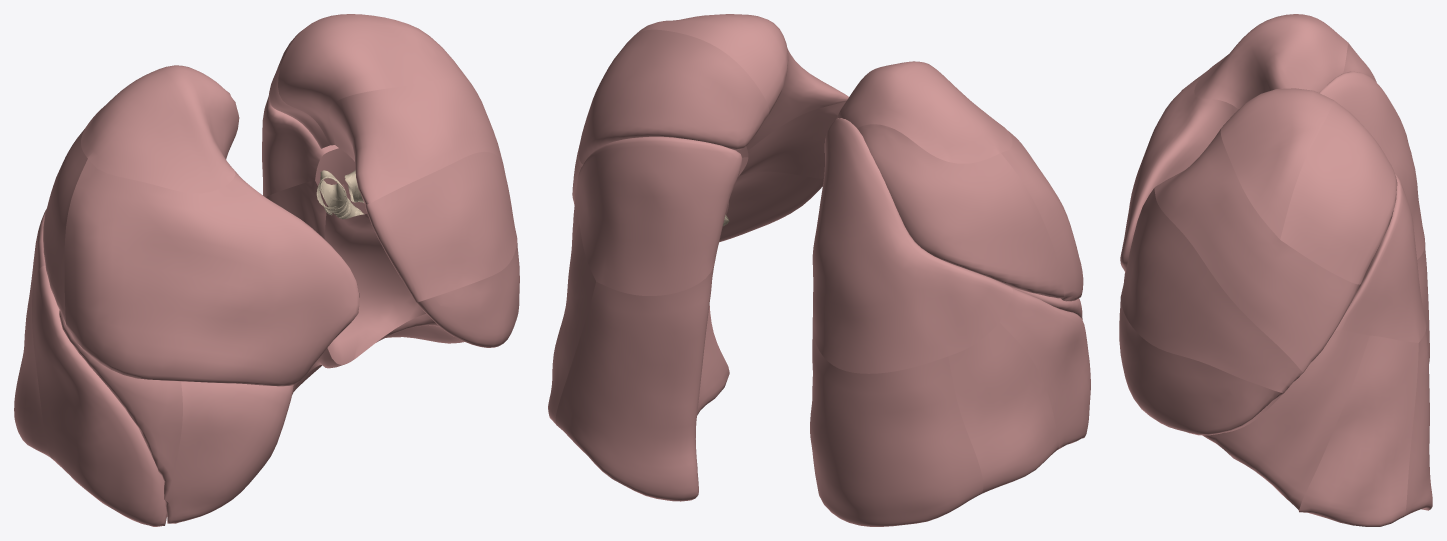
Rendered from lungs.glb.
3 views of the same model, side by side, from view 1: azimuth 30°, elevation 25°; view 2: azimuth 150°, elevation 25°; view 3: azimuth 270°, elevation 25° (orthographic). The views are drawn at different scales.
Visible parts, largest first — view 1: VH_F_right_anterior_bronchopulmonary_segm, VH_F_right_anterior_basal_bronchopulmonary_segment, VH_F_lingula_superior_bronchopulmonary_segment, VH_F_right_apical_bronchopulmonary_segment, VH_F_left_anterior_bronchopulmonary_segment, VH_F_left_apical_bronchopulmonary_segment, VH_F_right_medial_bronchopulmonary_segment, VH_F_left_medial_basal_bronchopulmonary_segment, VH_F_lingula_inferior_bronchopulmonary_segment, VH_F_right_lateral_bronchopulmonary_segmennt, VH_F_left_superior_bronchopulmonary_segment, VH_F_right_posterior_bronchopulmonary_segment (+6 smaller); view 2: VH_F_right_superior_bronchopulmonary_segment, VH_F_left_posterior_basal_bronchopulmonary_segment, VH_F_right_posterior_basal_bronchopulmonary_segment, VH_F_left_superior_bronchopulmonary_segment, VH_F_right_posterior_bronchopulmonary_segment, VH_F_left_posterior_bronchopulmonary_segment, VH_F_right_lateral_basal_bronchopulmonary_segment, VH_F_right_apical_bronchopulmonary_segment, VH_F_right_anterior_basal_bronchopulmonary_segment, VH_F_left_apical_bronchopulmonary_segment, VH_F_lingula_inferior_bronchopulmonary_segment, VH_F_lingula_superior_bronchopulmonary_segment (+3 smaller); view 3: VH_F_left_anterior_bronchopulmonary_segment, VH_F_lingula_superior_bronchopulmonary_segment, VH_F_left_lateral_basal_bronchopulmonary_segment, VH_F_left_posterior_bronchopulmonary_segment, VH_F_left_anterior_basal_bronchopulmonary_segment, VH_F_lingula_inferior_bronchopulmonary_segment, VH_F_left_apical_bronchopulmonary_segment, VH_F_right_apical_bronchopulmonary_segment, VH_F_left_superior_bronchopulmonary_segment, VH_F_right_anterior_bronchopulmonary_segm, VH_F_right_superior_bronchopulmonary_segment, VH_F_left_posterior_basal_bronchopulmonary_segment (+2 smaller).
Boxes of the visible parts, left/top/right/bottom form: VH_F_right_anterior_bronchopulmonary_segm: left=64, top=159, right=359, bottom=386; VH_F_right_anterior_basal_bronchopulmonary_segment: left=32, top=265, right=166, bottom=526; VH_F_lingula_superior_bronchopulmonary_segment: left=365, top=151, right=517, bottom=302; VH_F_right_apical_bronchopulmonary_segment: left=81, top=65, right=239, bottom=193; VH_F_left_anterior_bronchopulmonary_segment: left=329, top=78, right=502, bottom=204; VH_F_left_apical_bronchopulmonary_segment: left=278, top=14, right=470, bottom=145; VH_F_right_medial_bronchopulmonary_segment: left=165, top=381, right=293, bottom=523; VH_F_left_medial_basal_bronchopulmonary_segment: left=324, top=205, right=425, bottom=364; VH_F_lingula_inferior_bronchopulmonary_segment: left=416, top=242, right=519, bottom=347; VH_F_right_lateral_bronchopulmonary_segmennt: left=59, top=310, right=182, bottom=499; VH_F_left_superior_bronchopulmonary_segment: left=262, top=95, right=355, bottom=197; VH_F_right_posterior_bronchopulmonary_segment: left=43, top=129, right=87, bottom=325; VH_F_right_superior_bronchopulmonary_segment: left=812, top=118, right=1012, bottom=373; VH_F_left_posterior_basal_bronchopulmonary_segment: left=555, top=265, right=729, bottom=501; VH_F_right_posterior_basal_bronchopulmonary_segment: left=810, top=325, right=983, bottom=526; VH_F_left_superior_bronchopulmonary_segment: left=576, top=136, right=742, bottom=295; VH_F_right_posterior_bronchopulmonary_segment: left=857, top=124, right=1064, bottom=298; VH_F_left_posterior_bronchopulmonary_segment: left=579, top=29, right=769, bottom=164; VH_F_right_lateral_basal_bronchopulmonary_segment: left=948, top=322, right=1058, bottom=493; VH_F_right_apical_bronchopulmonary_segment: left=836, top=61, right=1012, bottom=163; VH_F_right_anterior_basal_bronchopulmonary_segment: left=999, top=287, right=1090, bottom=449; VH_F_left_apical_bronchopulmonary_segment: left=634, top=14, right=788, bottom=113; VH_F_lingula_inferior_bronchopulmonary_segment: left=719, top=157, right=823, bottom=242; VH_F_lingula_superior_bronchopulmonary_segment: left=736, top=101, right=845, bottom=178; VH_F_left_anterior_bronchopulmonary_segment: left=1154, top=129, right=1360, bottom=372; VH_F_lingula_superior_bronchopulmonary_segment: left=1120, top=188, right=1303, bottom=393; VH_F_left_lateral_basal_bronchopulmonary_segment: left=1299, top=335, right=1418, bottom=526; VH_F_left_posterior_bronchopulmonary_segment: left=1280, top=100, right=1397, bottom=284; VH_F_left_anterior_basal_bronchopulmonary_segment: left=1202, top=330, right=1369, bottom=510; VH_F_lingula_inferior_bronchopulmonary_segment: left=1119, top=300, right=1283, bottom=435; VH_F_left_apical_bronchopulmonary_segment: left=1220, top=88, right=1333, bottom=239; VH_F_right_apical_bronchopulmonary_segment: left=1194, top=14, right=1348, bottom=109; VH_F_left_superior_bronchopulmonary_segment: left=1335, top=173, right=1426, bottom=342; VH_F_right_anterior_bronchopulmonary_segm: left=1120, top=71, right=1238, bottom=272; VH_F_right_superior_bronchopulmonary_segment: left=1319, top=71, right=1424, bottom=259; VH_F_left_posterior_basal_bronchopulmonary_segment: left=1404, top=329, right=1432, bottom=516.
Size of the model in its own units: 3.35 by 2.98 by 2.04.
